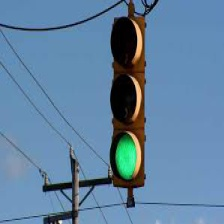semaforo: (109, 15, 145, 188)
